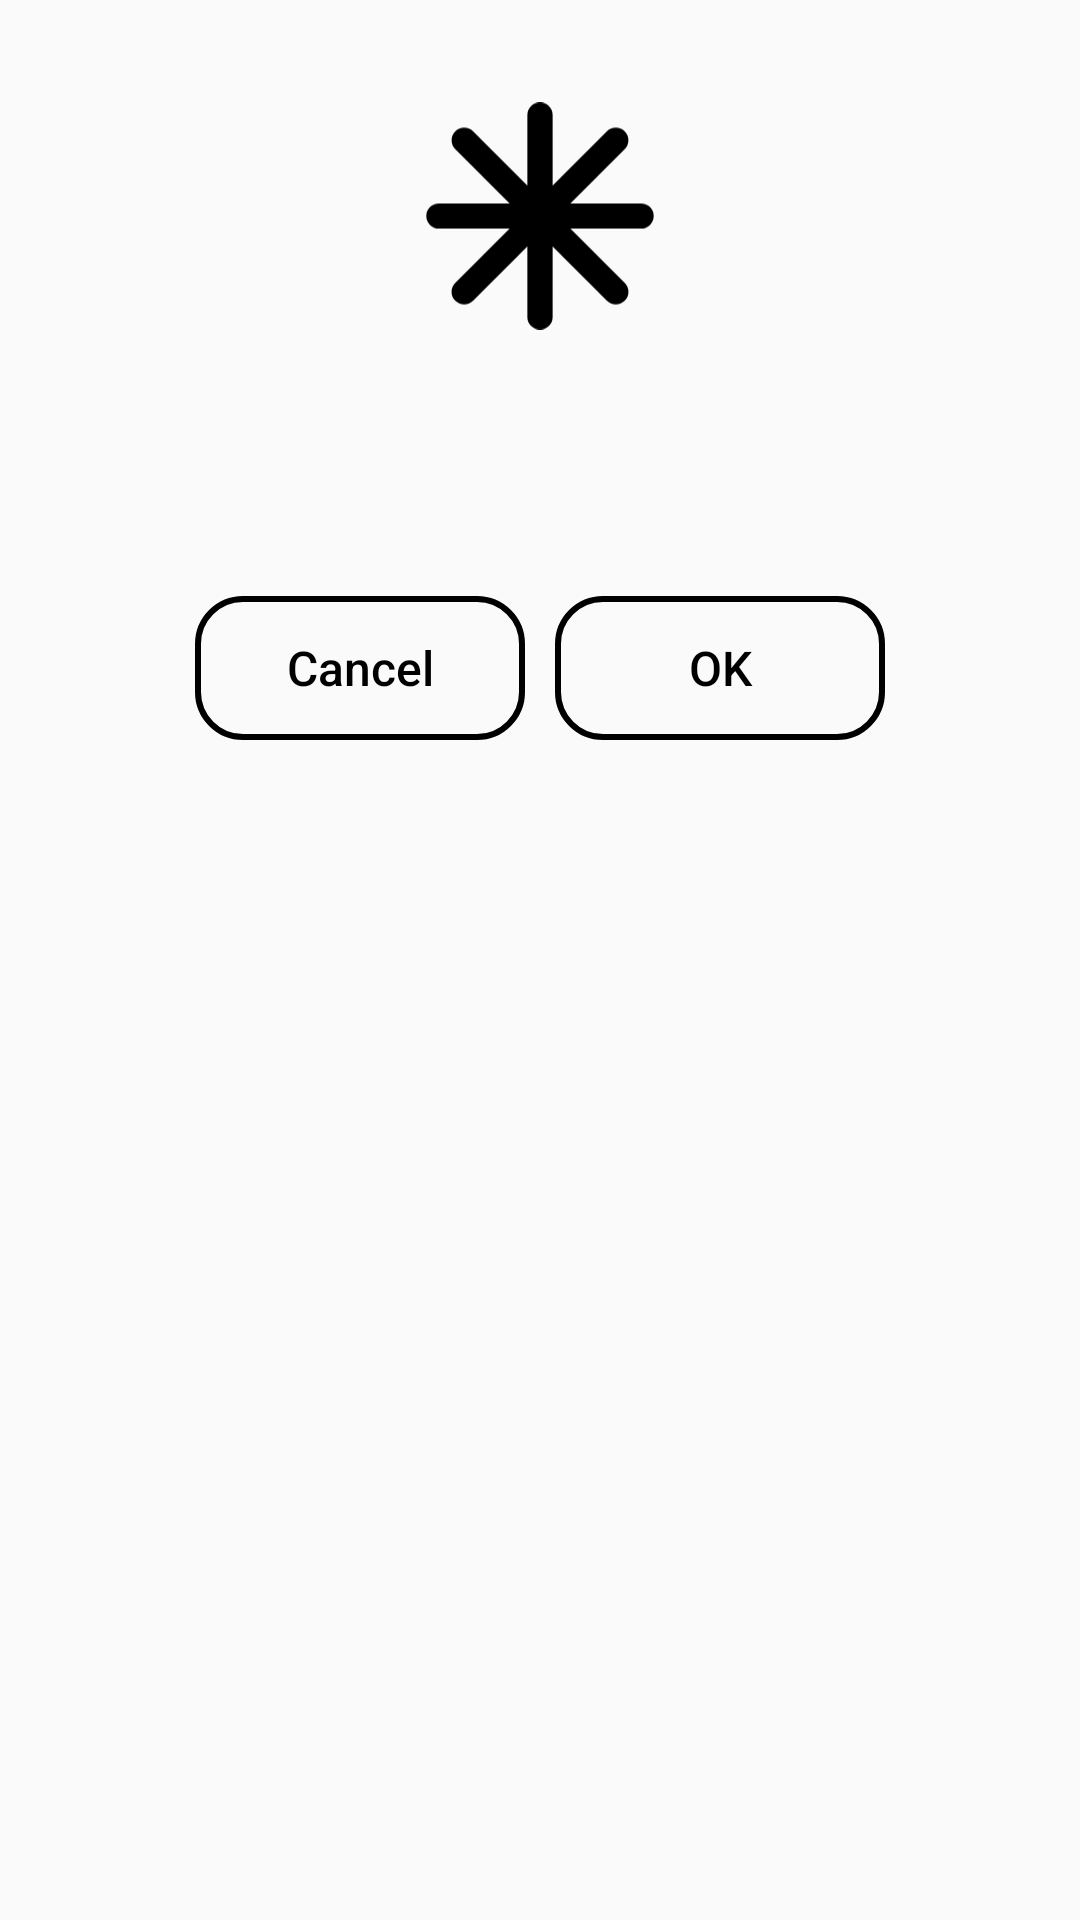

Icon click points for this 1080 x 1920 phone screenshot, format point (x, y):
asterisk: point (540, 216)
